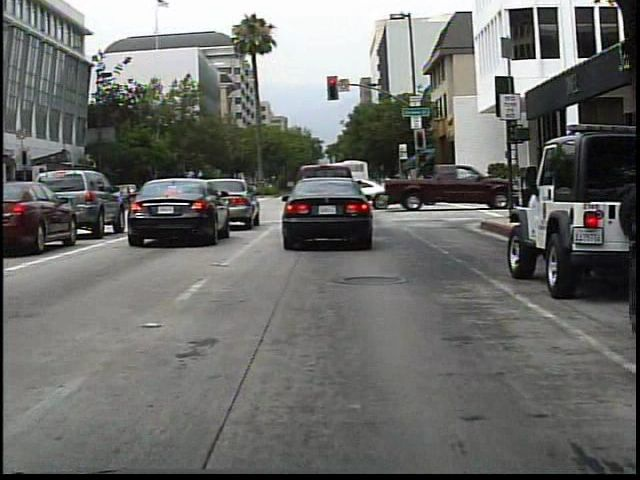person: (428, 166, 444, 197), (445, 167, 461, 196)
